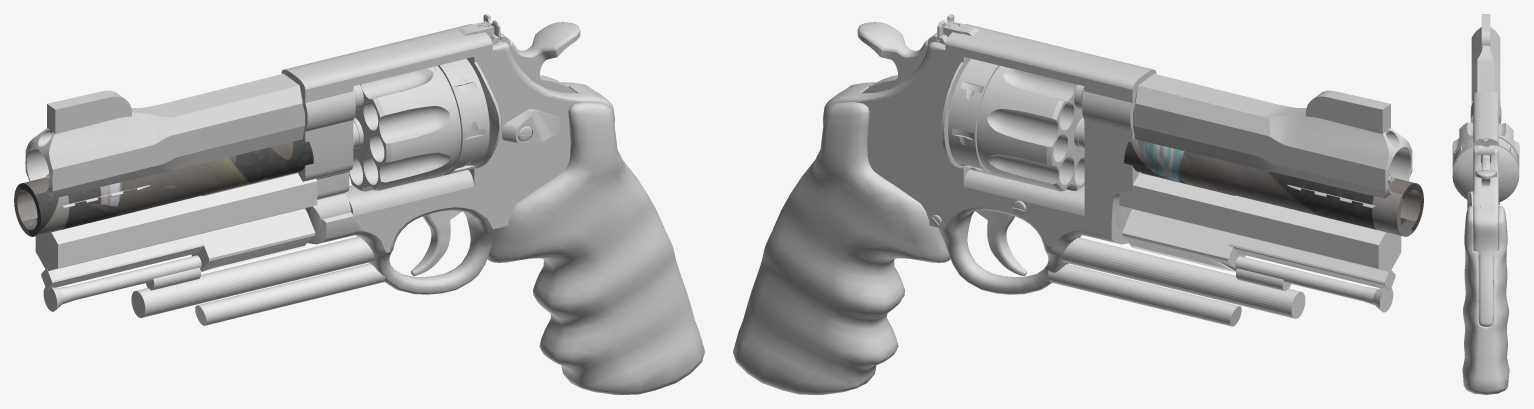
The model's file is hańba.fbx.
3 views of the same model, side by side, from view 1: azimuth 30°, elevation 25°; view 2: azimuth 150°, elevation 25°; view 3: azimuth 270°, elevation 25° (orthographic). The views are drawn at different scales.
Parts seen in each view (by area): view 1: Revolver.008_low.004, Revolver.005_low.004, Revolver.001_low.003, Revolver_low.003, Cylinder, Base, Cylinder.002, Cube.001, Cylinder.004, Revolver.0051_low.005, Cube, Cylinder.001 (+5 smaller); view 2: Revolver.008_low.004, Revolver.005_low.004, Revolver.001_low.003, Revolver_low.003, Cylinder, Base, Cylinder.002, Cylinder.004, Cube.001, Cube, Cylinder.001, Revolver.015_low.003 (+3 smaller); view 3: Revolver.005_low.004, Revolver.008_low.004, Revolver.001_low.003, Revolver_low.003, Revolver.012_low.004, Revolver.015_low.003, Revolver.018_low.003, Revolver.019_low.003, Revolver.007_low.003.
Part boxes in pixels (x1=…): Revolver.008_low.004: x1=487, y1=82, x2=704, y2=394; Revolver.005_low.004: x1=281, y1=24, x2=664, y2=294; Revolver.001_low.003: x1=25, y1=73, x2=304, y2=208; Revolver_low.003: x1=349, y1=58, x2=489, y2=191; Cylinder: x1=35, y1=172, x2=317, y2=270; Base: x1=14, y1=136, x2=313, y2=236; Cylinder.002: x1=131, y1=236, x2=374, y2=317; Cube.001: x1=191, y1=208, x2=315, y2=271; Cylinder.004: x1=195, y1=263, x2=385, y2=325; Revolver.0051_low.005: x1=297, y1=120, x2=353, y2=231; Cube: x1=41, y1=234, x2=203, y2=289; Cylinder.001: x1=43, y1=255, x2=201, y2=311; Revolver.008_low.004: x1=733, y1=82, x2=950, y2=394; Revolver.005_low.004: x1=773, y1=24, x2=1156, y2=294; Revolver.001_low.003: x1=1132, y1=73, x2=1412, y2=208; Revolver_low.003: x1=948, y1=58, x2=1084, y2=191; Cylinder: x1=1119, y1=172, x2=1401, y2=271; Base: x1=1124, y1=136, x2=1423, y2=236; Cylinder.002: x1=1061, y1=237, x2=1305, y2=318; Cylinder.004: x1=1048, y1=264, x2=1241, y2=326; Cube.001: x1=1121, y1=209, x2=1245, y2=272; Cube: x1=1229, y1=234, x2=1395, y2=290; Cylinder.001: x1=1235, y1=256, x2=1393, y2=312; Revolver.015_low.003: x1=1306, y1=90, x2=1390, y2=134; Revolver.005_low.004: x1=1452, y1=91, x2=1519, y2=326; Revolver.008_low.004: x1=1462, y1=206, x2=1509, y2=394; Revolver.001_low.003: x1=1471, y1=27, x2=1500, y2=104; Revolver_low.003: x1=1452, y1=122, x2=1519, y2=172; Revolver.012_low.004: x1=1475, y1=155, x2=1496, y2=208; Revolver.015_low.003: x1=1481, y1=14, x2=1490, y2=46; Revolver.018_low.003: x1=1477, y1=144, x2=1494, y2=154; Revolver.019_low.003: x1=1478, y1=138, x2=1493, y2=146; Revolver.007_low.003: x1=1467, y1=191, x2=1473, y2=208.
Size of the model in its own units: 25.85 by 15.44 by 4.21.
